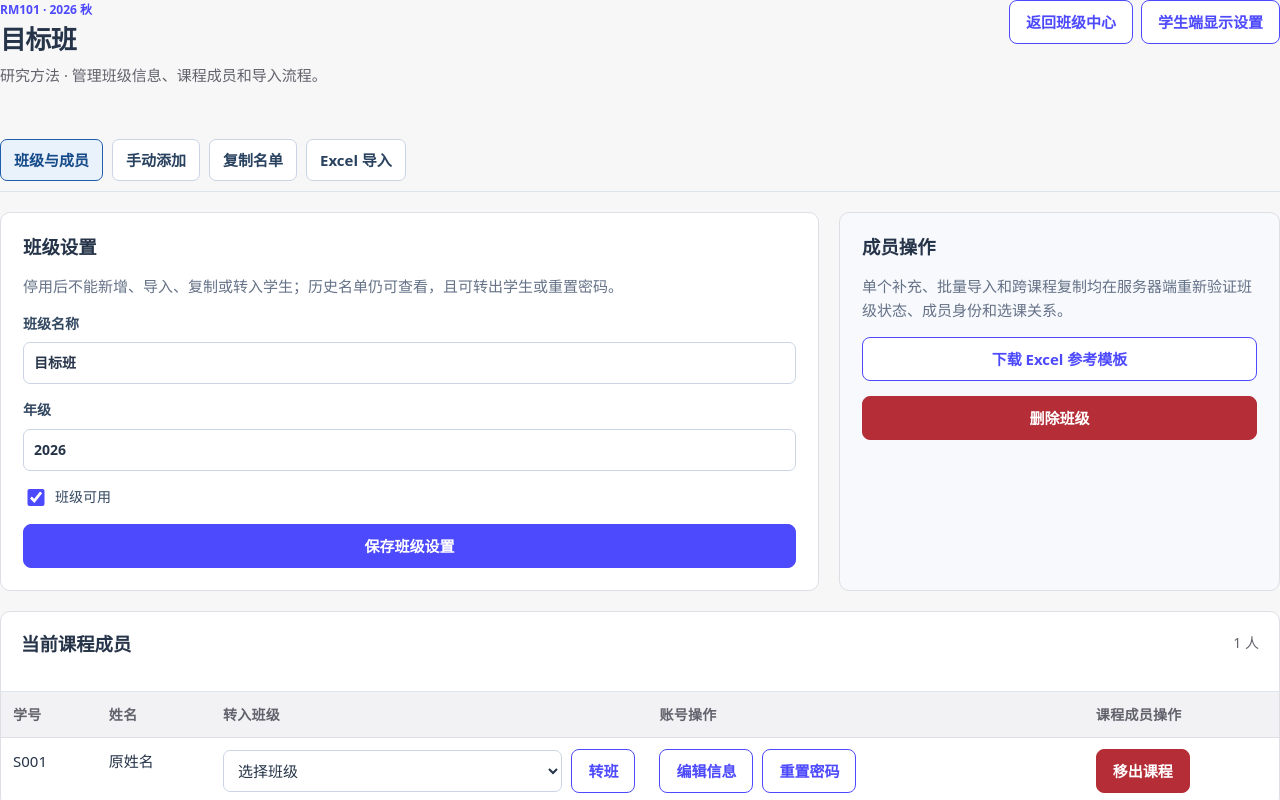
TeacherClassManagement › uses the server-provided class state and submits manual enrollment through the API
The image size is (1280, 800).
Expected: the heading "目标班" is shown, [0, 21, 76, 57]
Expected: the form named "state_token" holds "state-1", [0, 212, 819, 592]
Click the button "手动添加".
click(156, 160)  # box [112, 139, 200, 181]
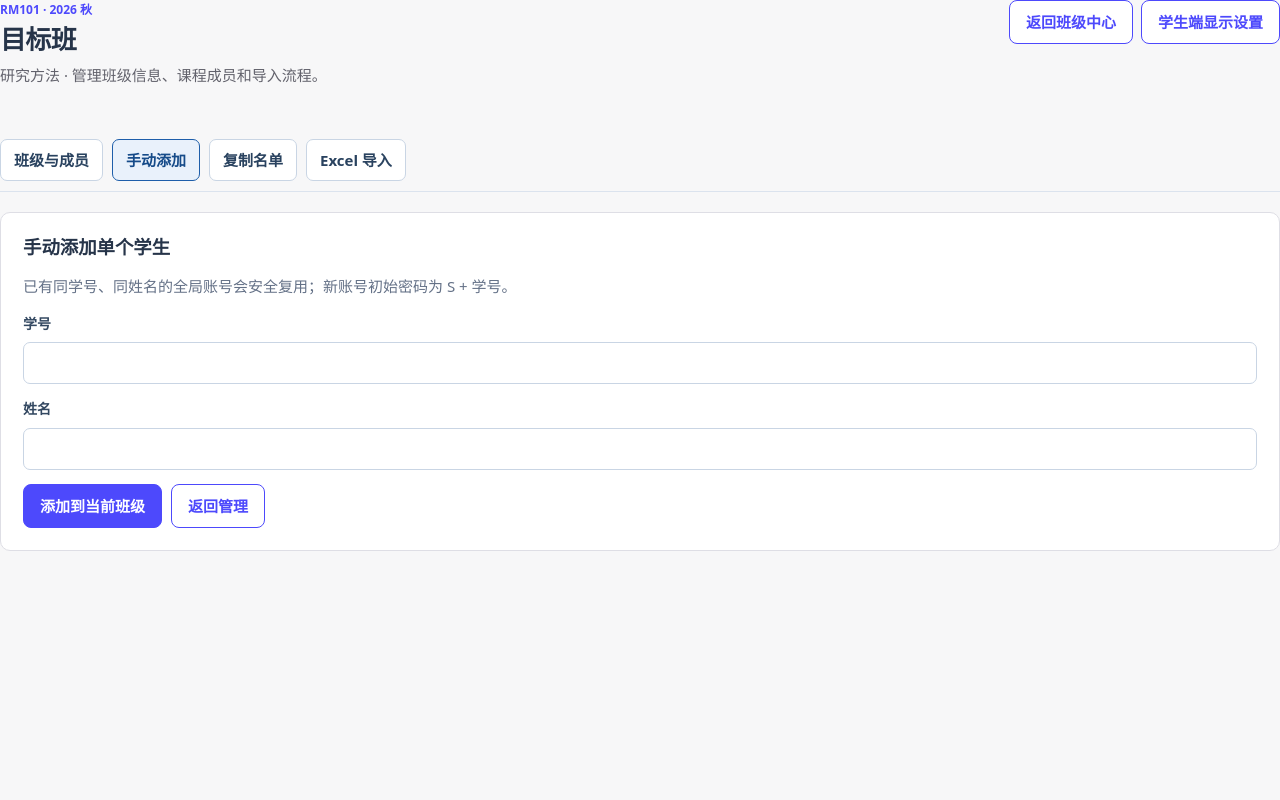
Type "S001" into the field named "student_number".
click(640, 364); type("S001")  # box [23, 342, 1257, 384]
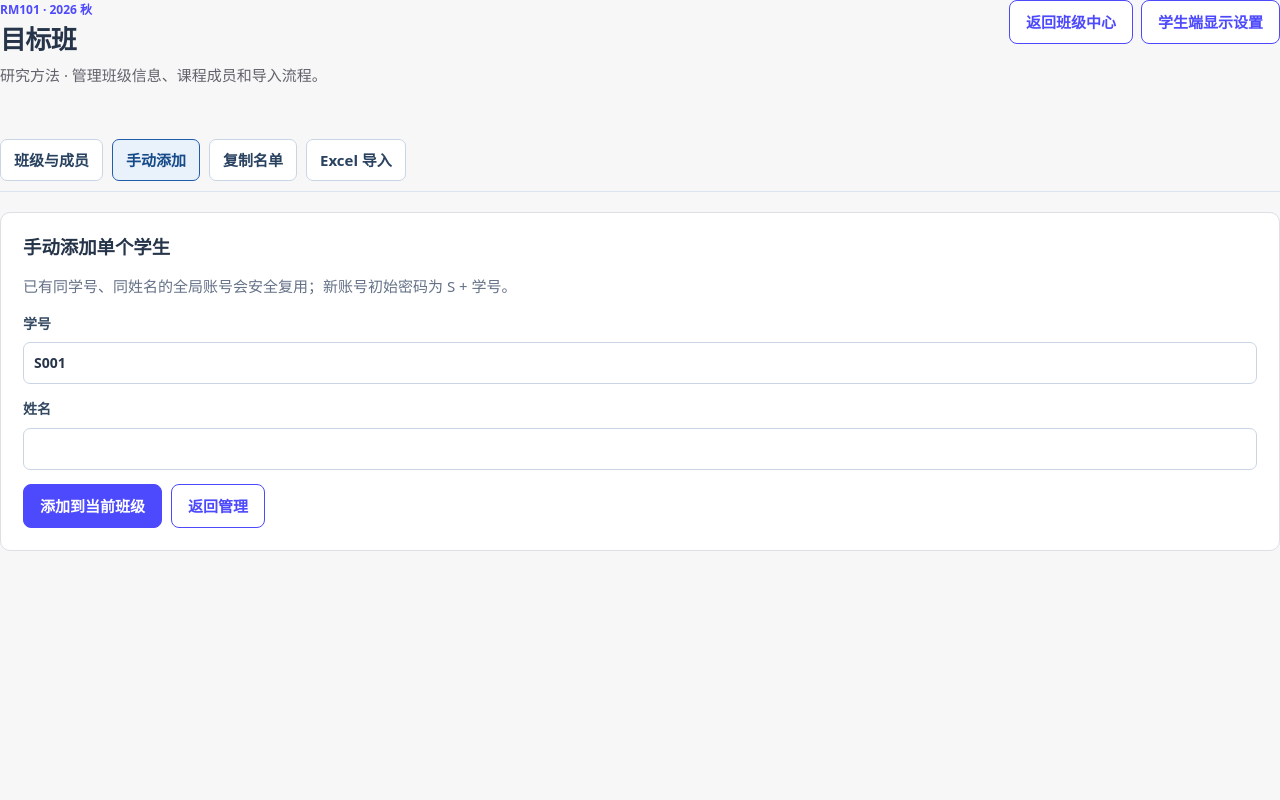
Type "新学生" into the field named "display_name".
click(640, 449); type("新学生")  # box [23, 428, 1257, 470]
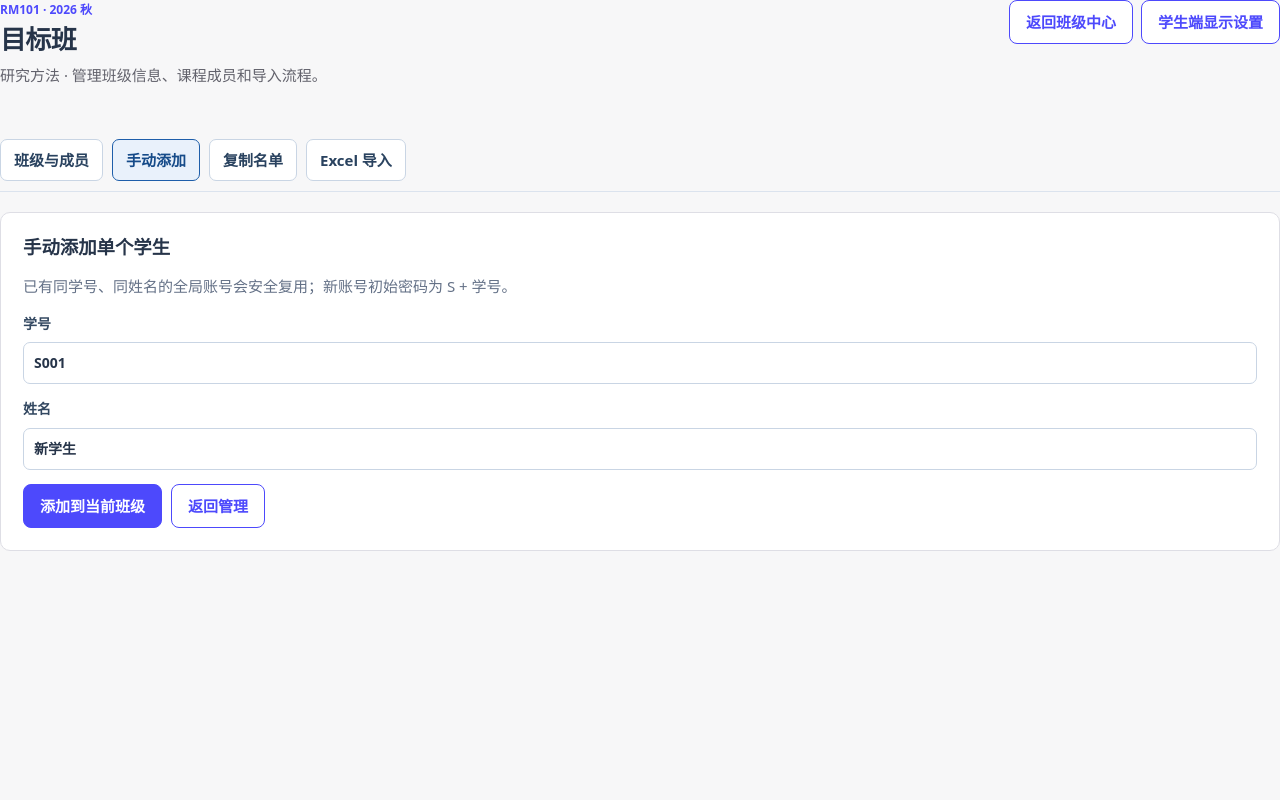
Submit the form, box [23, 313, 1257, 528]
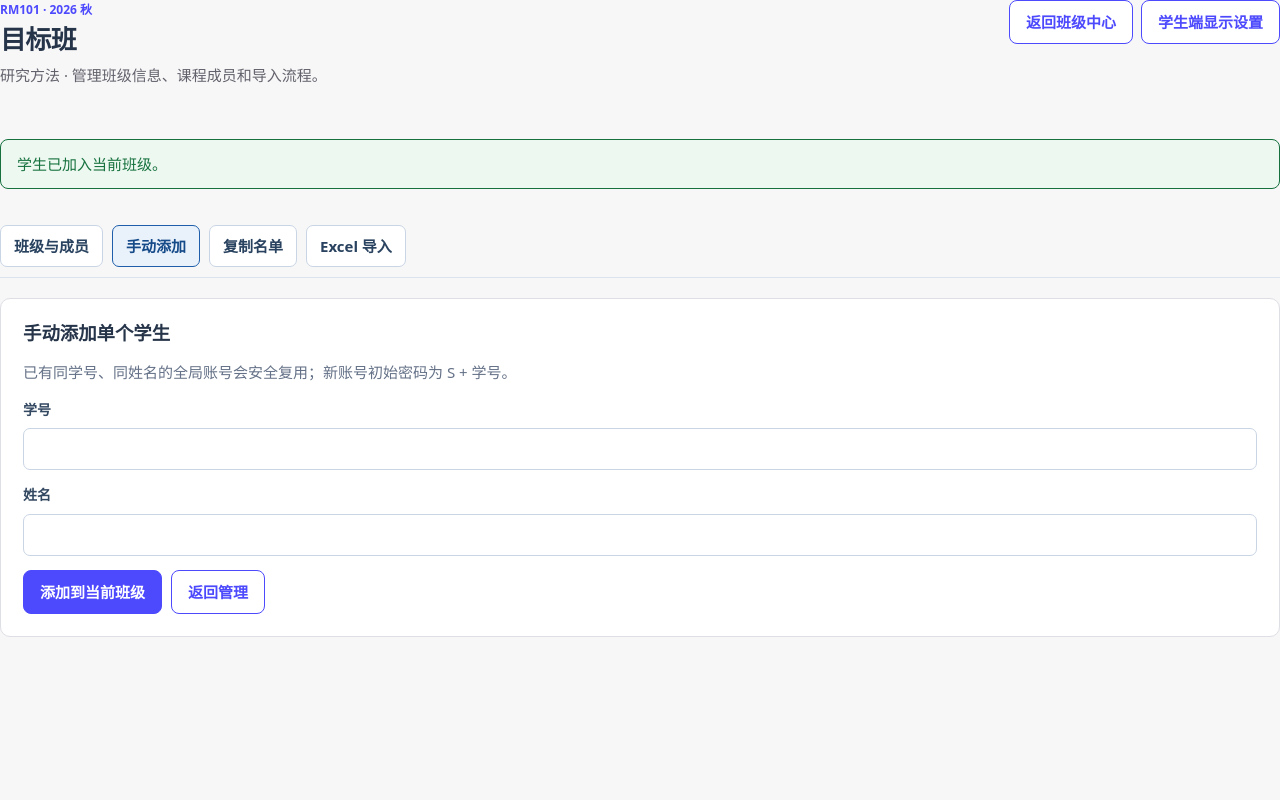
Expected: the text "学生已加入当前班级。" is shown, [0, 139, 1279, 189]
